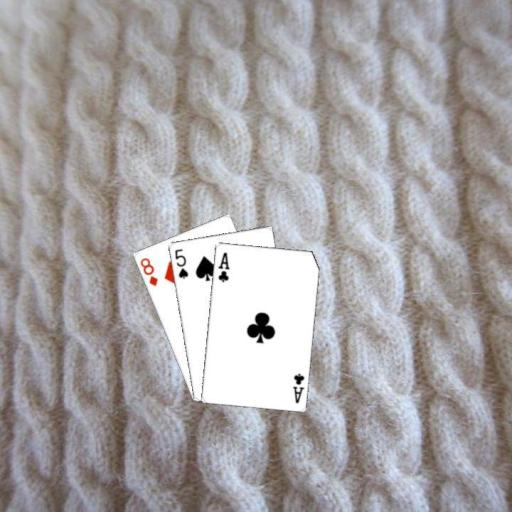5S: (172, 246, 190, 281)
8D: (137, 255, 160, 288)
AC: (289, 370, 305, 404), (215, 249, 230, 283)
